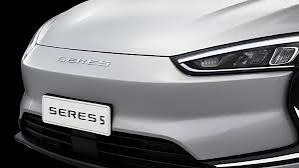car: (14, 6, 299, 165)
